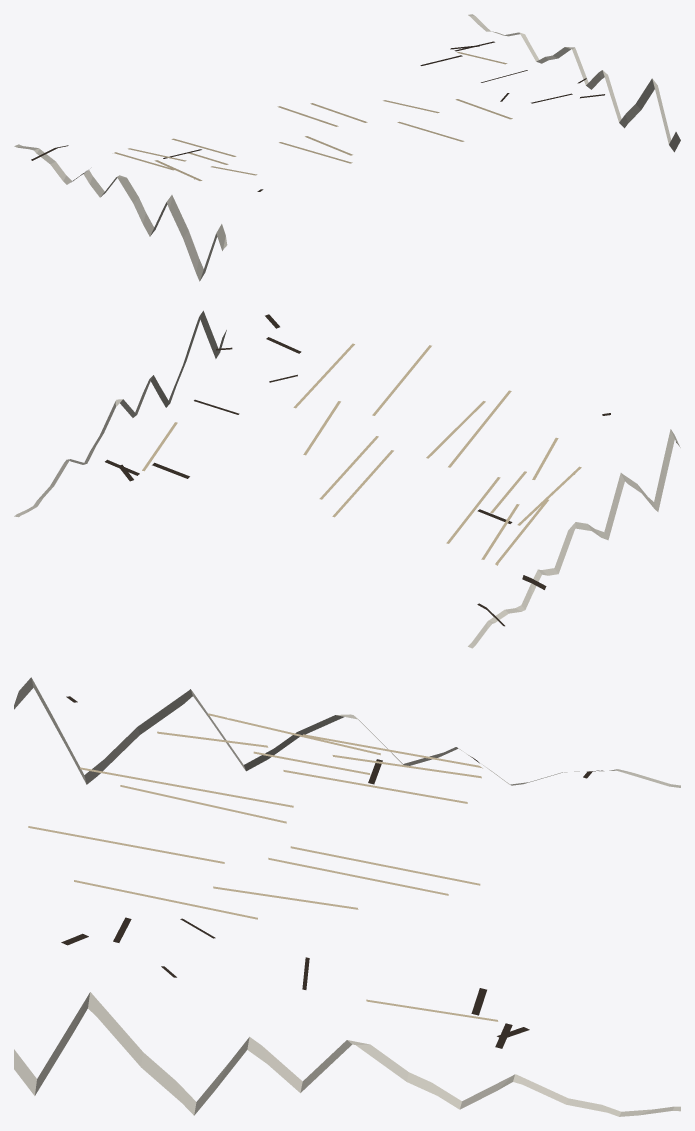
The model's file is dam_domes_kicker_detail1.glb.
The picture shows the model from 3 angles, top to bottom: view 1: azimuth 30°, elevation 25°; view 2: azimuth 150°, elevation 25°; view 3: azimuth 270°, elevation 25°; orthographic projection. The views are drawn at different scales.
Parts seen in each view (by area): view 1: dam_domes_kicker_detail1; view 2: dam_domes_kicker_detail1; view 3: dam_domes_kicker_detail1.
Boxes of the visible parts, x1=… form: dam_domes_kicker_detail1: x1=14, y1=14, x2=680, y2=281; dam_domes_kicker_detail1: x1=14, y1=310, x2=680, y2=648; dam_domes_kicker_detail1: x1=14, y1=677, x2=680, y2=1116.
Size of the model in its own units: 23.62 by 4.64 by 18.3.
